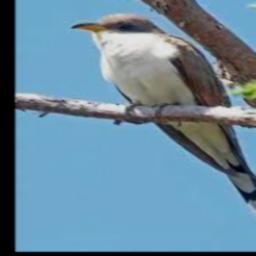Cuckoo: (69, 12, 256, 241)
